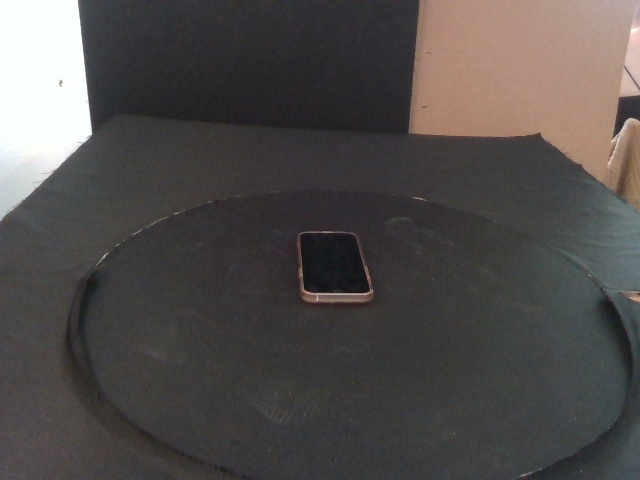phone: (297, 230, 375, 303)
